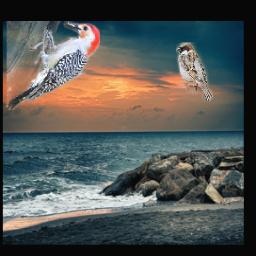Sparrow: (177, 43, 214, 101)
Woodpecker: (8, 21, 101, 110)
